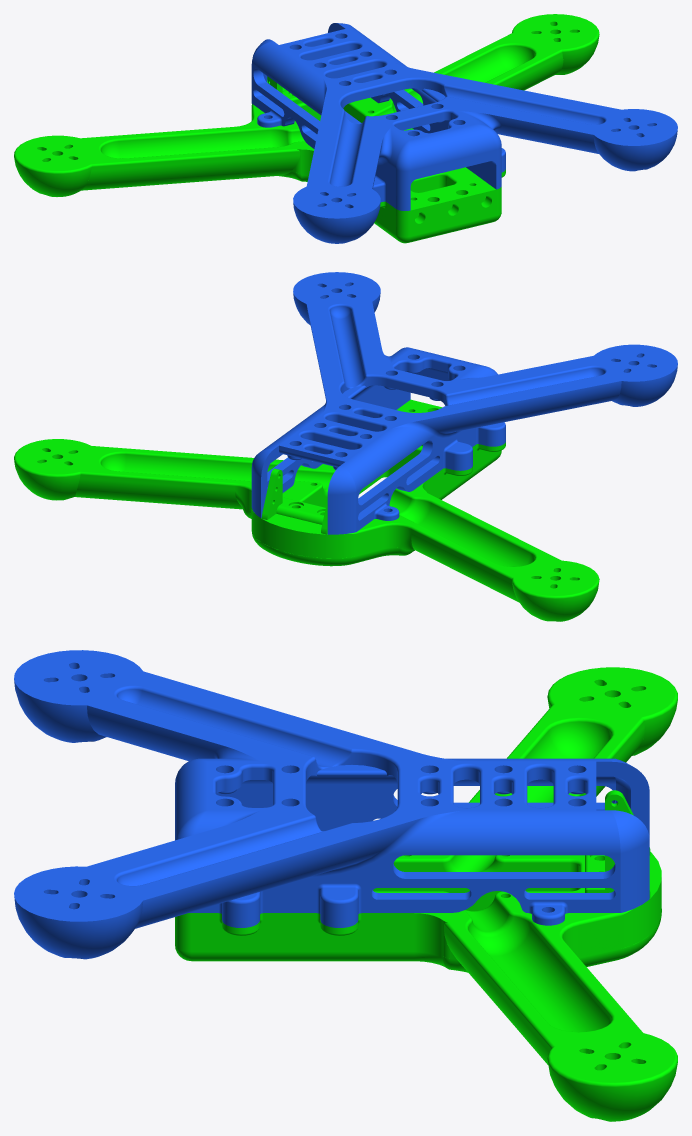
Rendered from testModel.glb.
3 renders of one model, top to bottom at view 1: azimuth 30°, elevation 25°; view 2: azimuth 150°, elevation 25°; view 3: azimuth 270°, elevation 25°, orthographic. The views are drawn at different scales.
Parts seen in each view (by area): view 1: white-pw-mt11050-2, white-pw-mt11050; view 2: white-pw-mt11050-2, white-pw-mt11050, white-pw-mt11050-3; view 3: white-pw-mt11050-2, white-pw-mt11050, white-pw-mt11050-3.
Boxes of the visible parts, <box> form: white-pw-mt11050-2: <box>251,23,677,243</box>; white-pw-mt11050: <box>14,14,599,243</box>; white-pw-mt11050-2: <box>251,272,677,534</box>; white-pw-mt11050: <box>14,399,599,621</box>; white-pw-mt11050-3: <box>261,468,327,534</box>; white-pw-mt11050-2: <box>14,650,649,959</box>; white-pw-mt11050: <box>175,667,677,1121</box>; white-pw-mt11050-3: <box>585,790,650,898</box>.
Bounding box in the file's own units: 0.3016 × 0.0498 × 0.2026.
